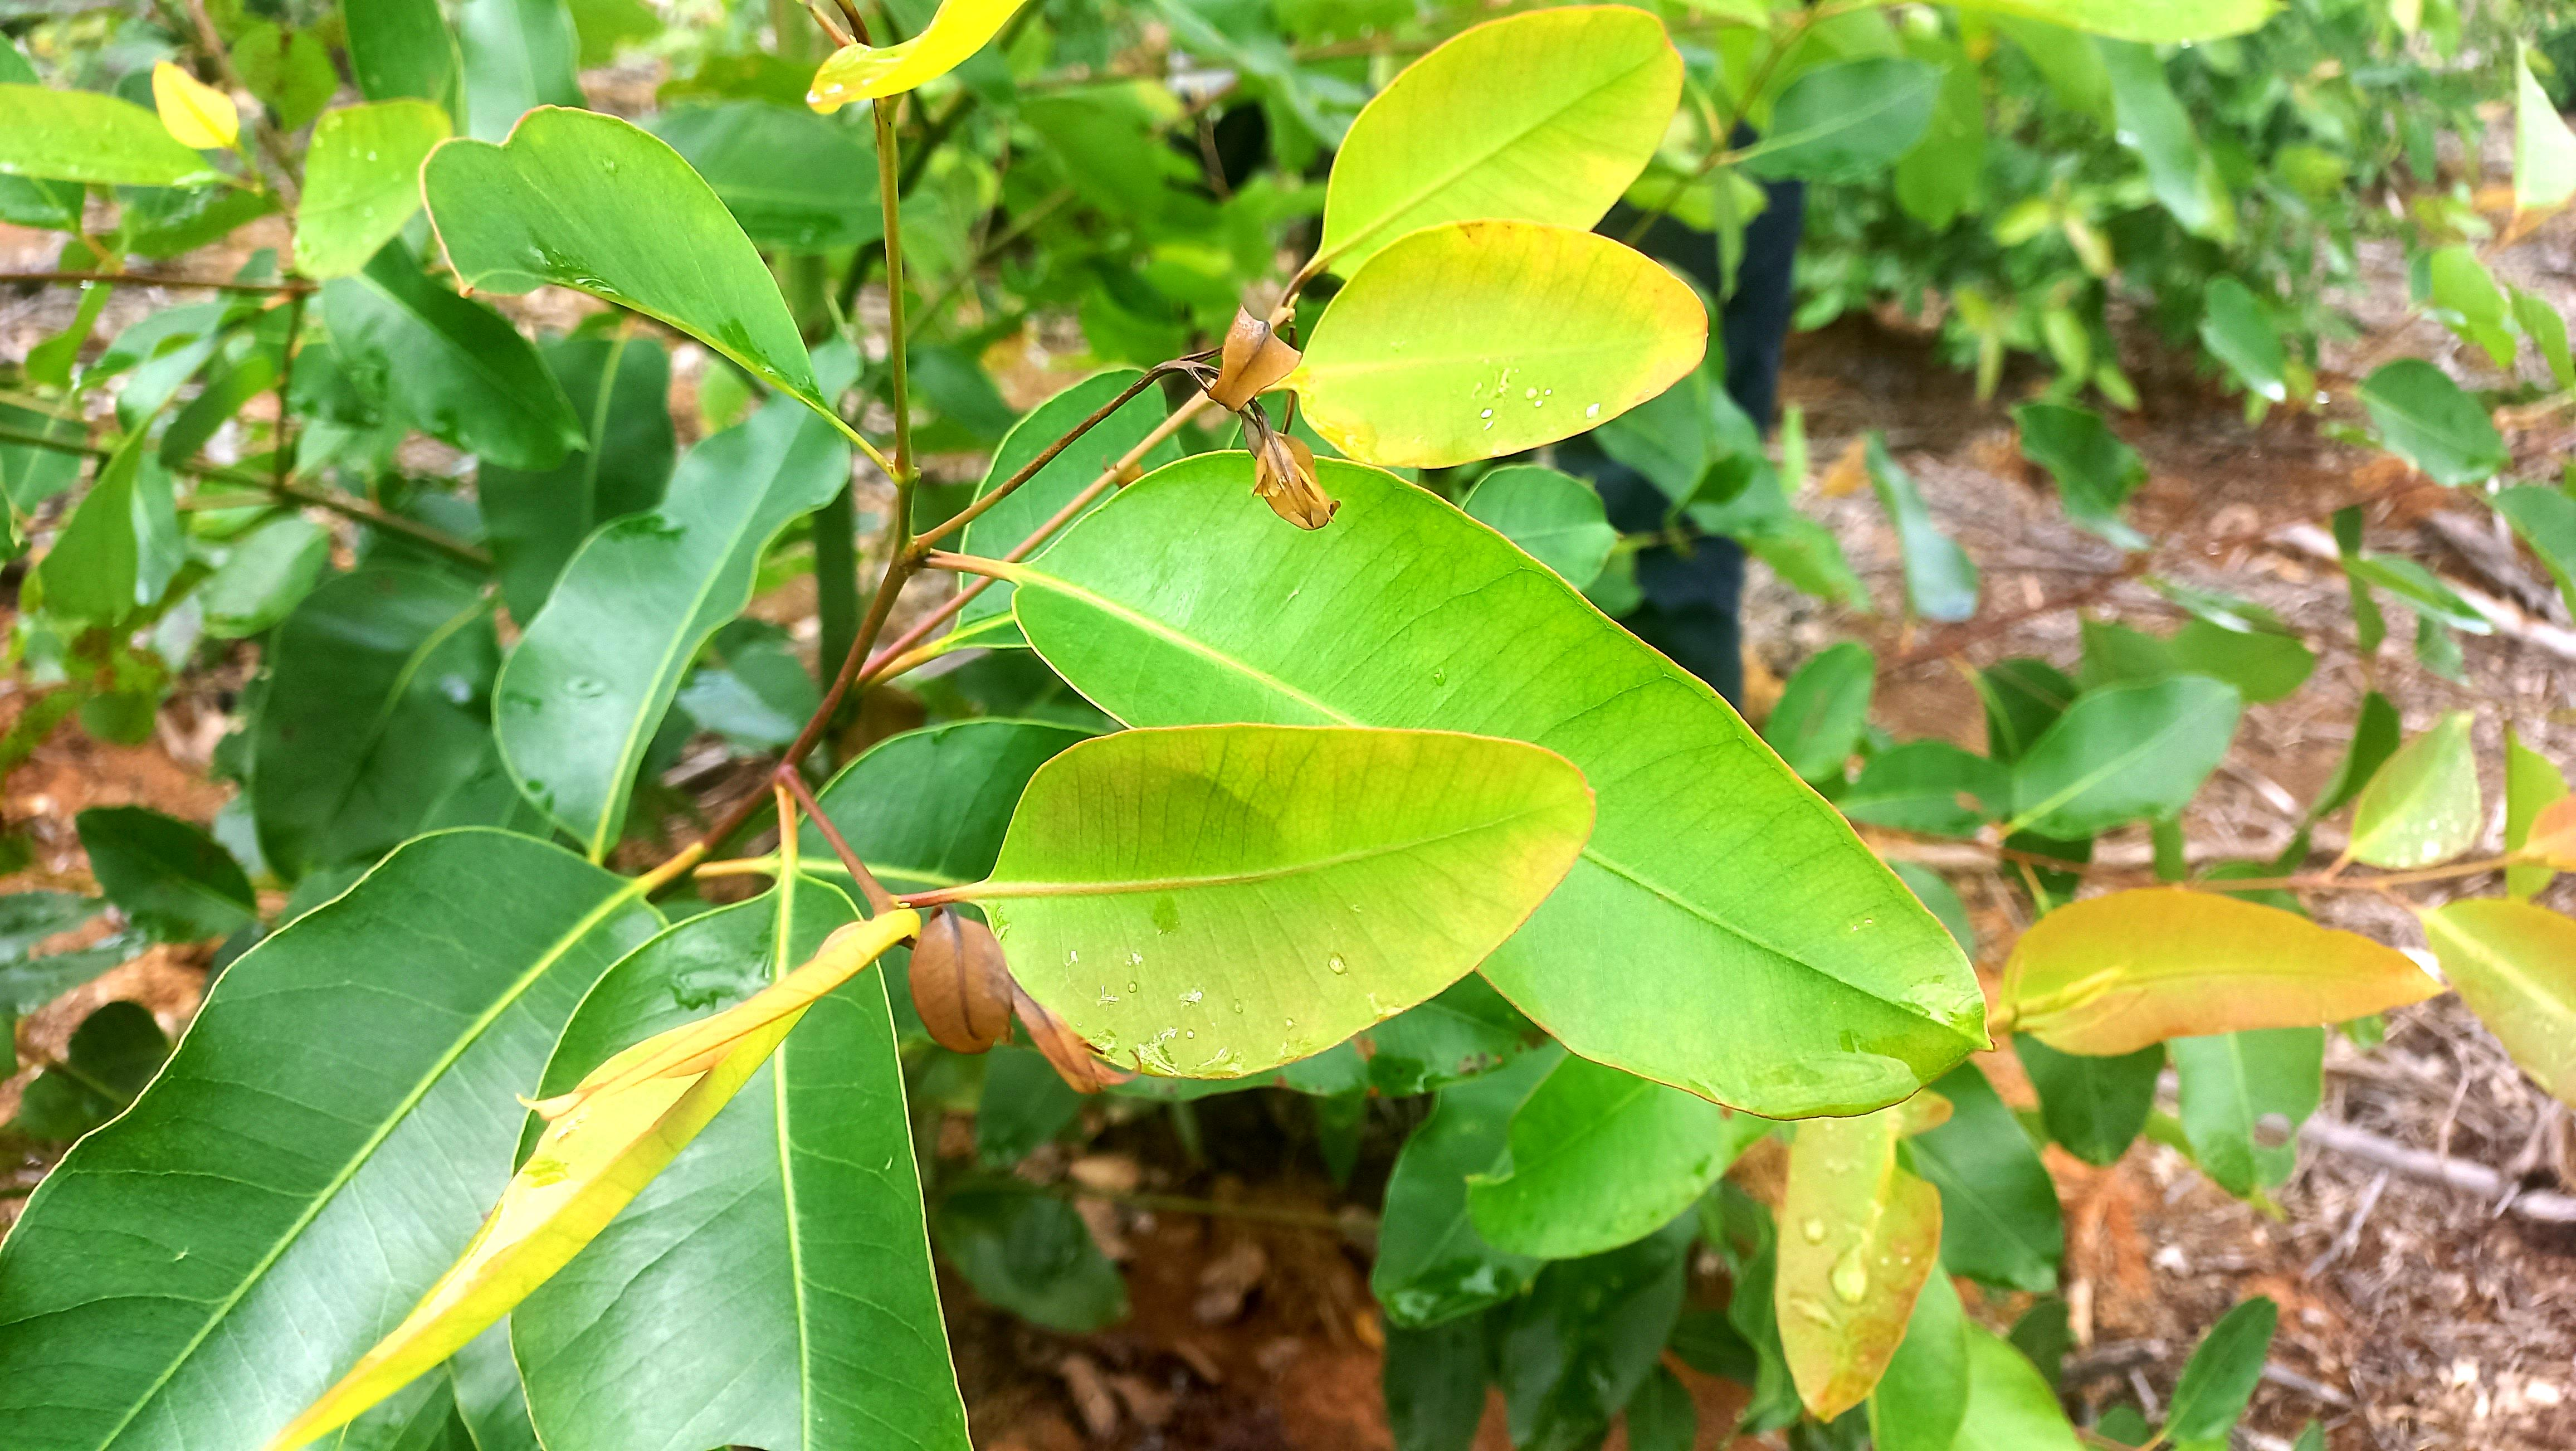Helopeltis-Withered Sprout: (271, 892, 901, 1451), (1987, 892, 2445, 1062), (1014, 977, 1139, 1109), (911, 906, 1017, 1062), (1207, 304, 1302, 411), (1251, 430, 1339, 531), (1265, 435, 1315, 526), (1246, 435, 1283, 499), (1238, 411, 1261, 462)
